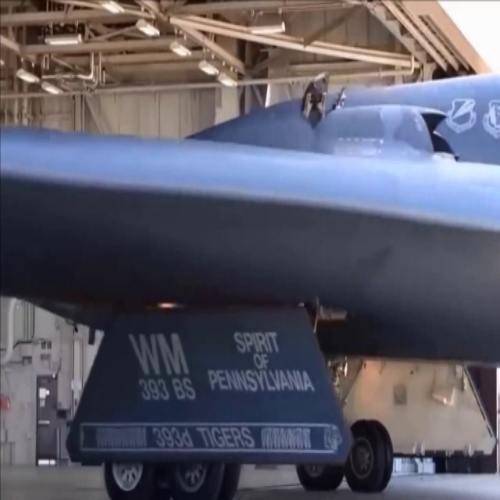uav978: (1, 73, 499, 373)
